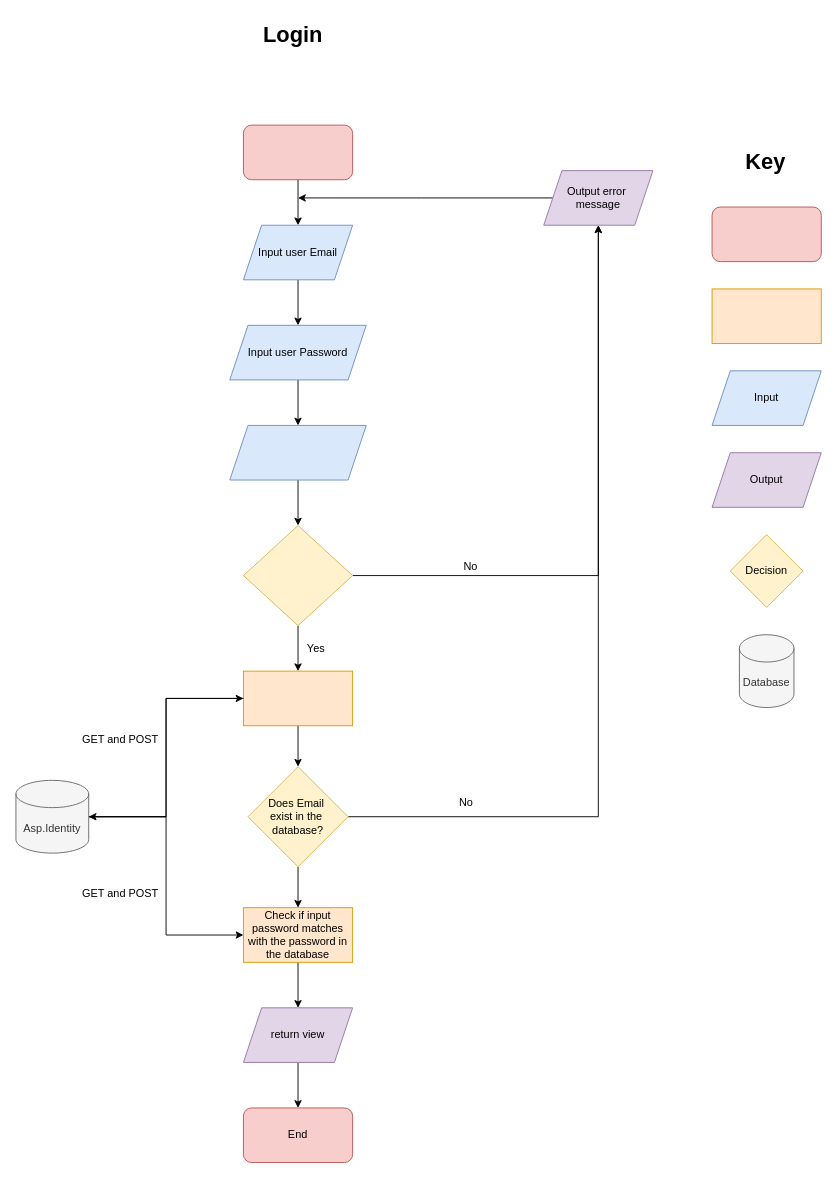
Image size: 837x1178. Some labels were removed from this diagram. Here are the shapes that lost their labels. From the top down, the centre of each, then its label:
the point at 298,152: User clicks on Log in
the point at 766,234: Start/End
the point at 766,316: Process
the point at 297,452: Click log in button
the point at 298,575: Does the email meet all email requirements?
the point at 298,698: Attempt to find user record with email
